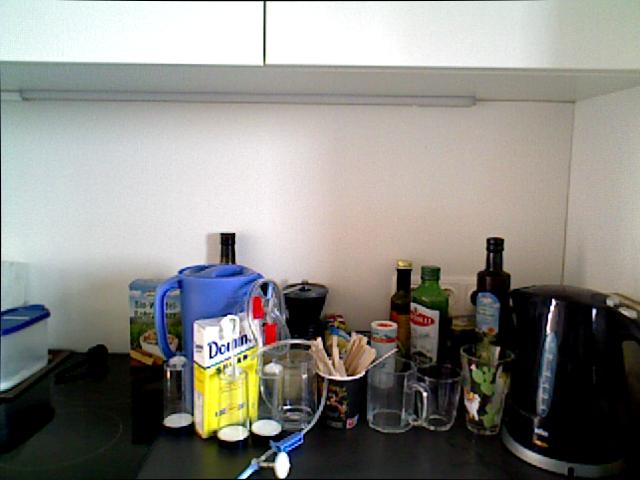bench: (470, 236, 516, 374), (409, 264, 451, 390), (213, 231, 244, 353), (389, 259, 417, 381)
bird: (135, 327, 181, 360)
handbag: (157, 257, 264, 348), (257, 341, 322, 432), (459, 343, 514, 435), (366, 354, 429, 433), (313, 357, 369, 434), (412, 363, 462, 431), (216, 356, 248, 442), (161, 353, 193, 428), (255, 360, 282, 442)
